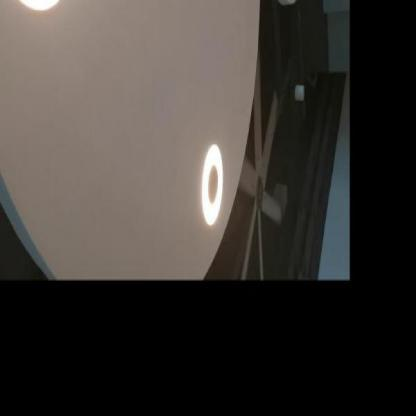light_on: (196, 125, 231, 238), (0, 0, 86, 17)
